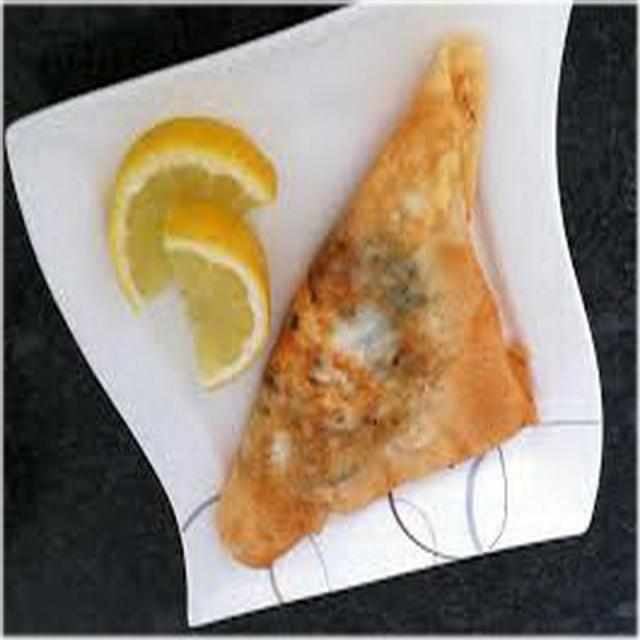brik: (227, 44, 590, 574)
